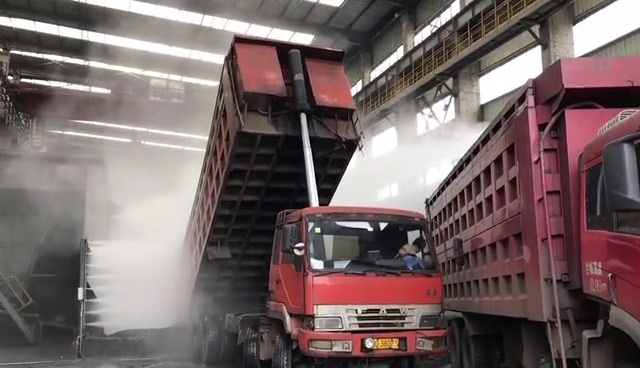dust: (14, 24, 190, 333), (315, 112, 495, 209)
truck: (188, 41, 450, 367), (446, 45, 635, 363)
